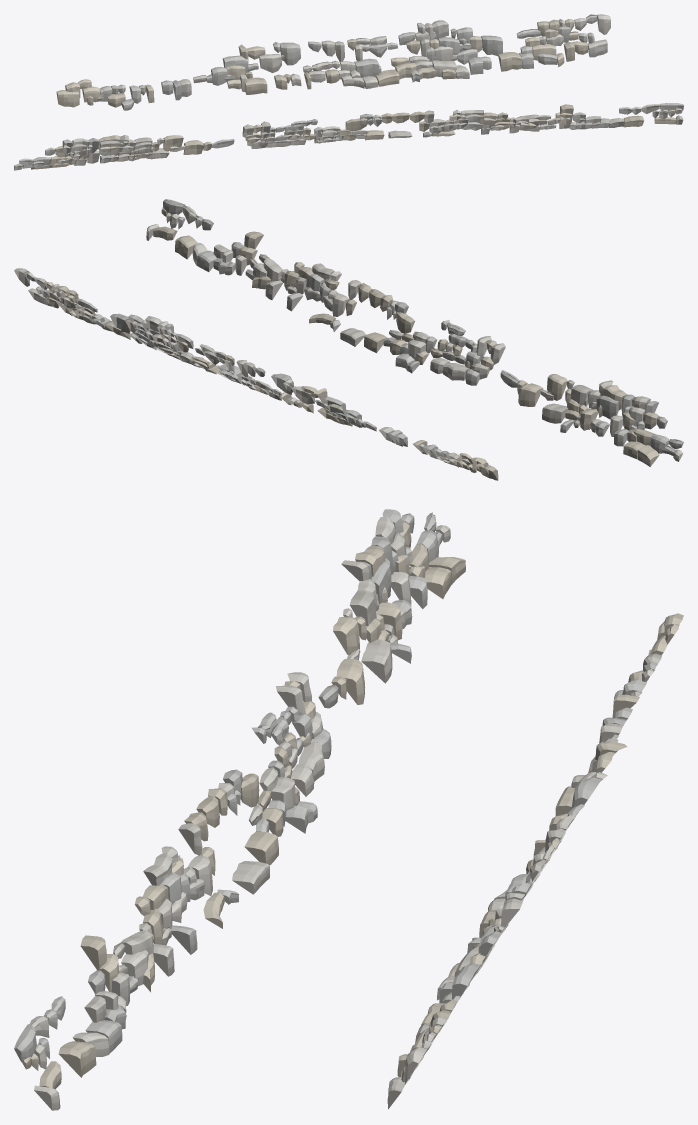
Rendered from SM_BM_BC_GorgeStrata_0.glb.
The picture shows the model from 3 angles, top to bottom: view 1: azimuth 30°, elevation 25°; view 2: azimuth 150°, elevation 25°; view 3: azimuth 270°, elevation 25°; orthographic projection. The views are drawn at different scales.
Parts seen in each view (by area): view 1: SM_BM_BC_GorgeStrata_0; view 2: SM_BM_BC_GorgeStrata_0; view 3: SM_BM_BC_GorgeStrata_0.
Boxes of the visible parts, x1=… form: SM_BM_BC_GorgeStrata_0: x1=14, y1=14, x2=683, y2=170; SM_BM_BC_GorgeStrata_0: x1=14, y1=199, x2=683, y2=480; SM_BM_BC_GorgeStrata_0: x1=14, y1=509, x2=683, y2=1110.
Bounding box in the file's own units: 152 × 12.36 × 77.01.
